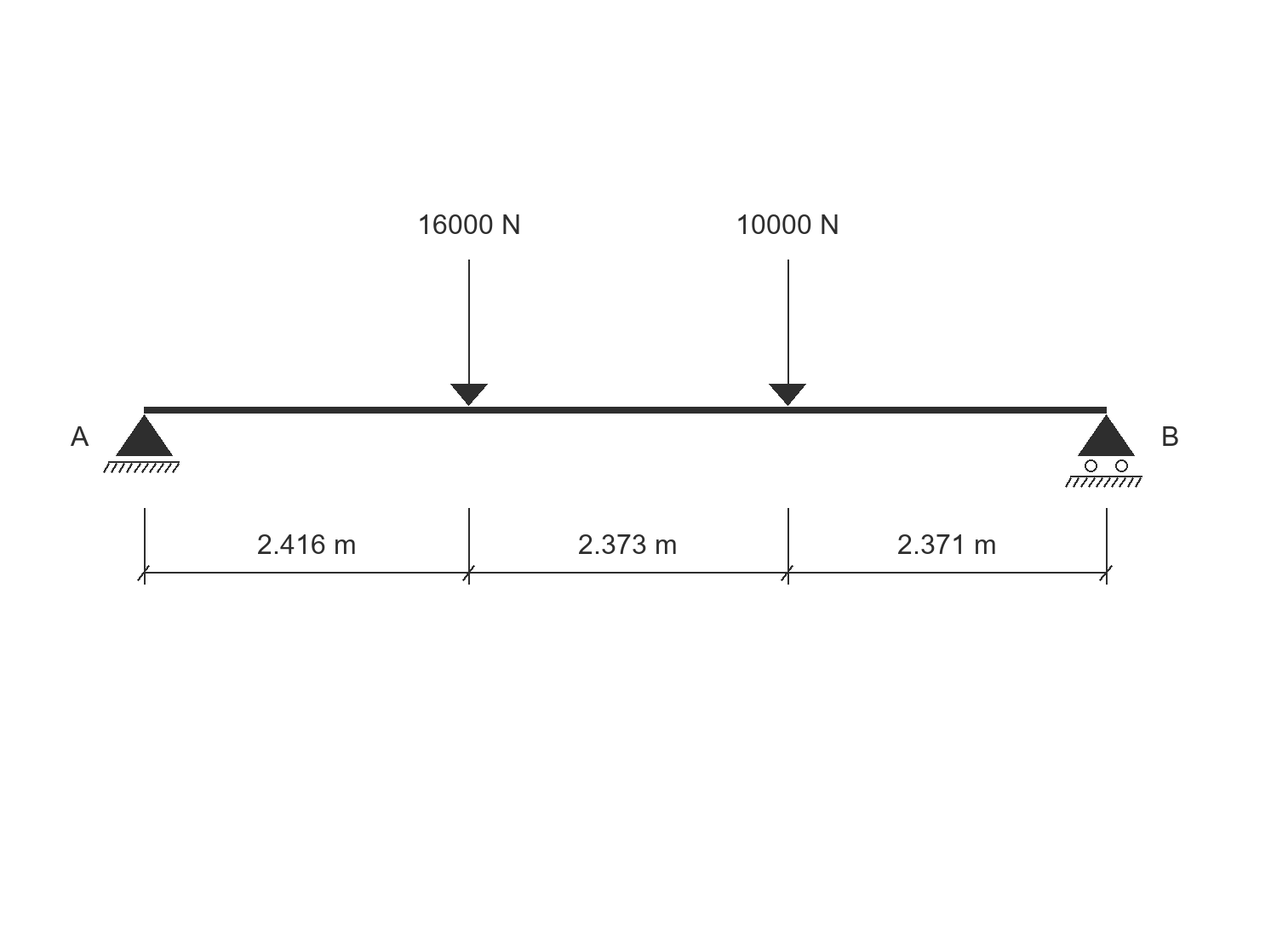pin_support: (103, 414, 180, 473)
point_load: (450, 260, 488, 406), (769, 260, 806, 406)
roller_support: (1065, 414, 1142, 488)
